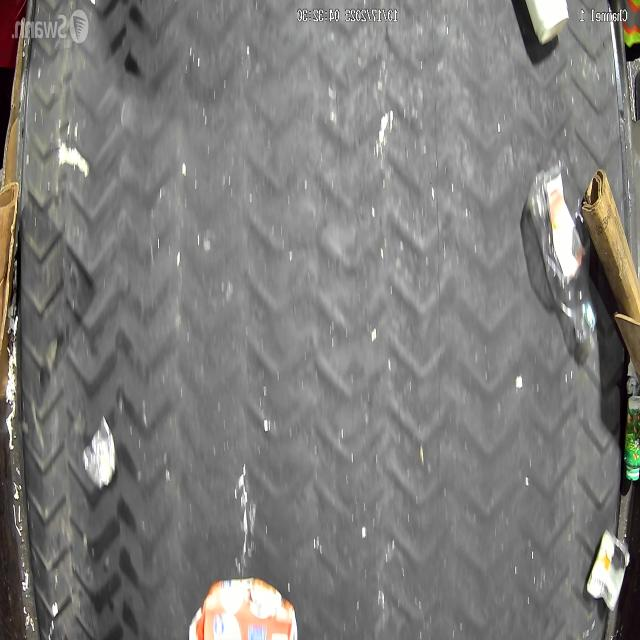can: (586, 526, 626, 606), (80, 415, 119, 490)
non_white_jug: (190, 573, 298, 640)
plastic_bottle: (526, 165, 596, 342)
